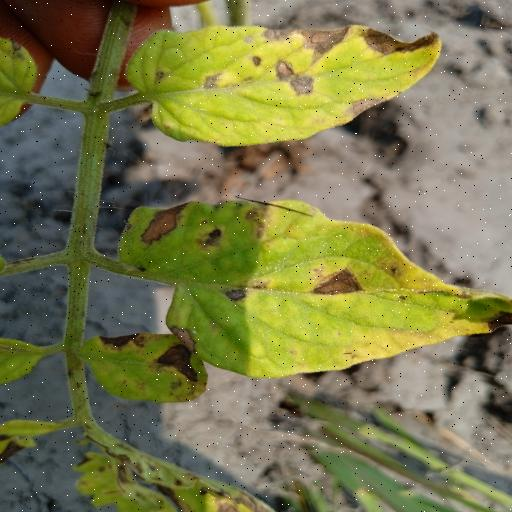Tomato_Brown_Spots: (109, 195, 512, 382), (122, 24, 442, 149)
